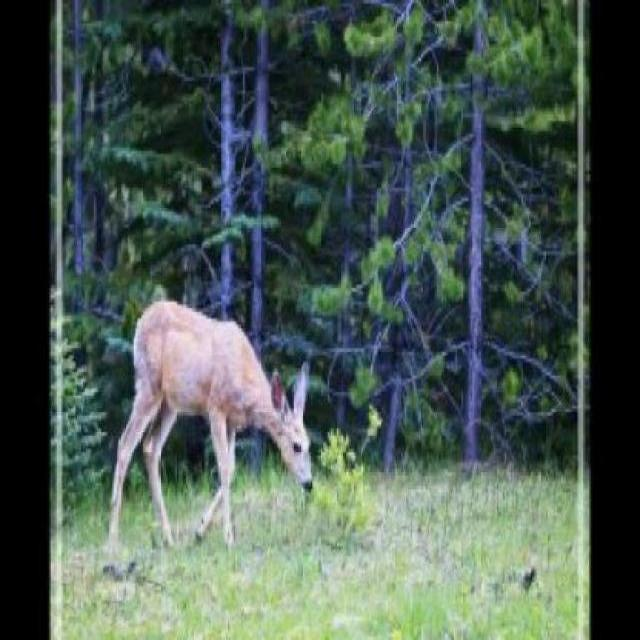deer: (106, 296, 316, 553)
